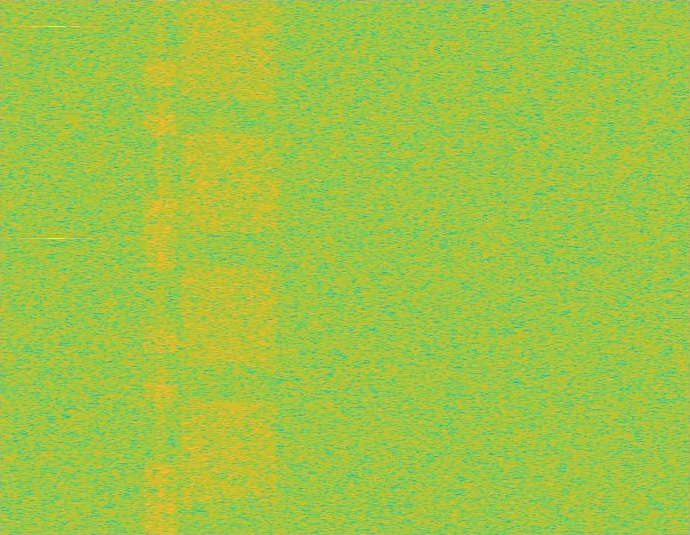5G: (178, 0, 281, 534)
DSSS: (157, 0, 164, 534)
LTE: (143, 0, 178, 534)
Radar: (49, 0, 63, 534)
